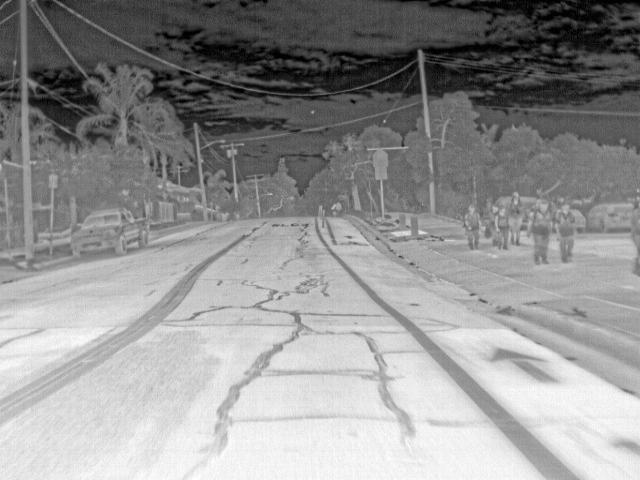car: (69, 208, 149, 258), (587, 200, 635, 234), (573, 206, 586, 234)
person: (531, 198, 552, 265), (557, 202, 576, 262), (462, 202, 482, 250), (507, 188, 524, 244), (495, 204, 510, 252), (489, 202, 501, 244)
